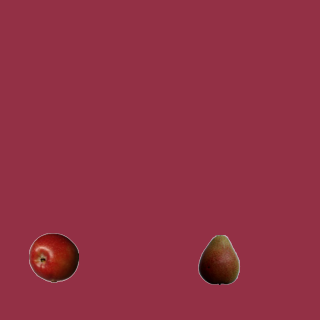Apple Braeburn: (28, 232, 78, 282)
Pear Forelle: (193, 234, 243, 284)
